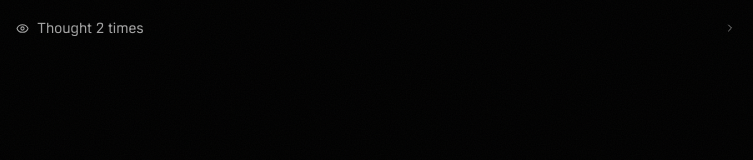
it: MessagesTimeline › collapses two consecutive thoughts into exactly one summary button
This screenshot has width=753, height=160.
Click the button "Thought 2 times" at (90, 28), box [16, 16, 736, 40]
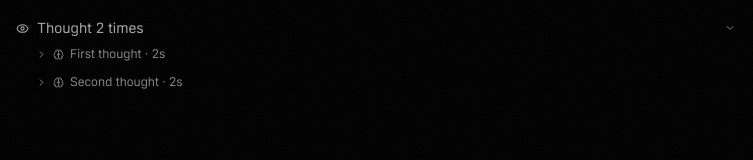
Expected: the button "Thought 2 times" is expanded, [16, 16, 736, 40]
Expected: the number of buttons "First thought · 2s" is 1, [36, 46, 736, 62]
Expected: the number of buttons "Second thought · 2s" is 1, [36, 74, 736, 90]
